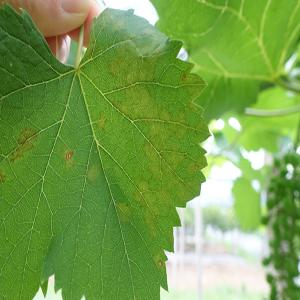Folha: (0, 2, 211, 300)
Fungo: (107, 38, 160, 86), (116, 90, 168, 125), (134, 178, 156, 232), (8, 125, 38, 163), (170, 110, 196, 146), (136, 138, 163, 170), (156, 184, 175, 220), (164, 147, 179, 186), (149, 121, 172, 144), (114, 199, 130, 224), (86, 161, 102, 183), (61, 144, 74, 171), (175, 180, 187, 206), (186, 156, 198, 175), (176, 148, 188, 166), (110, 18, 126, 30), (96, 112, 106, 130), (169, 229, 175, 246), (65, 150, 73, 160), (181, 73, 186, 81), (158, 260, 163, 266)
